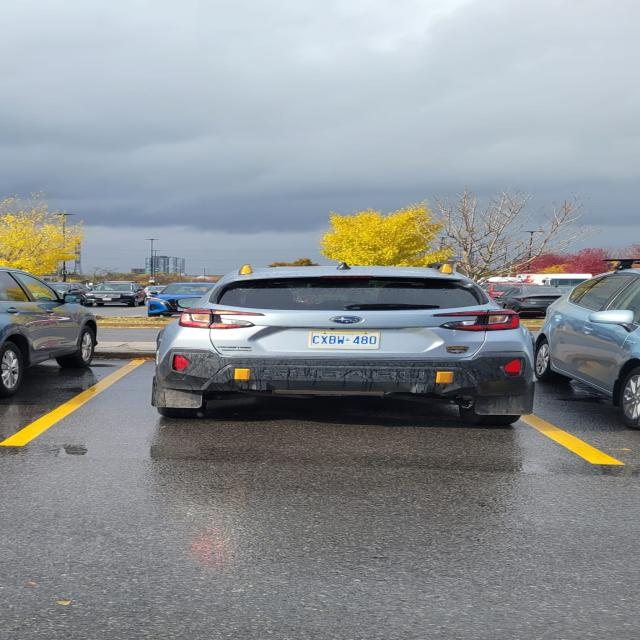plaque: (309, 332, 379, 349), (105, 295, 118, 299)
